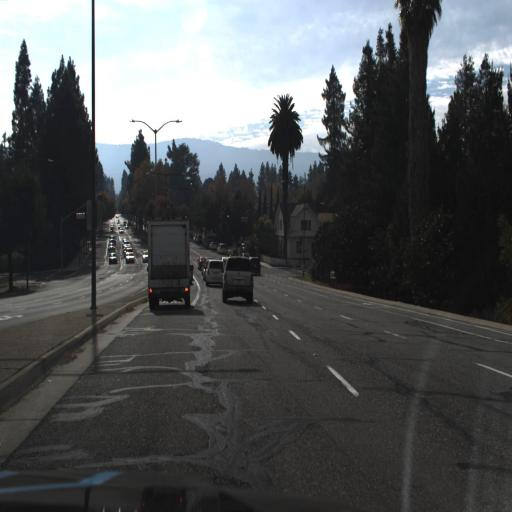car: (220, 252, 256, 309), (203, 259, 225, 286), (245, 253, 261, 277), (215, 243, 227, 257), (125, 252, 136, 265), (108, 253, 119, 265), (141, 249, 150, 262), (209, 241, 217, 253)
truck: (147, 217, 192, 311)
